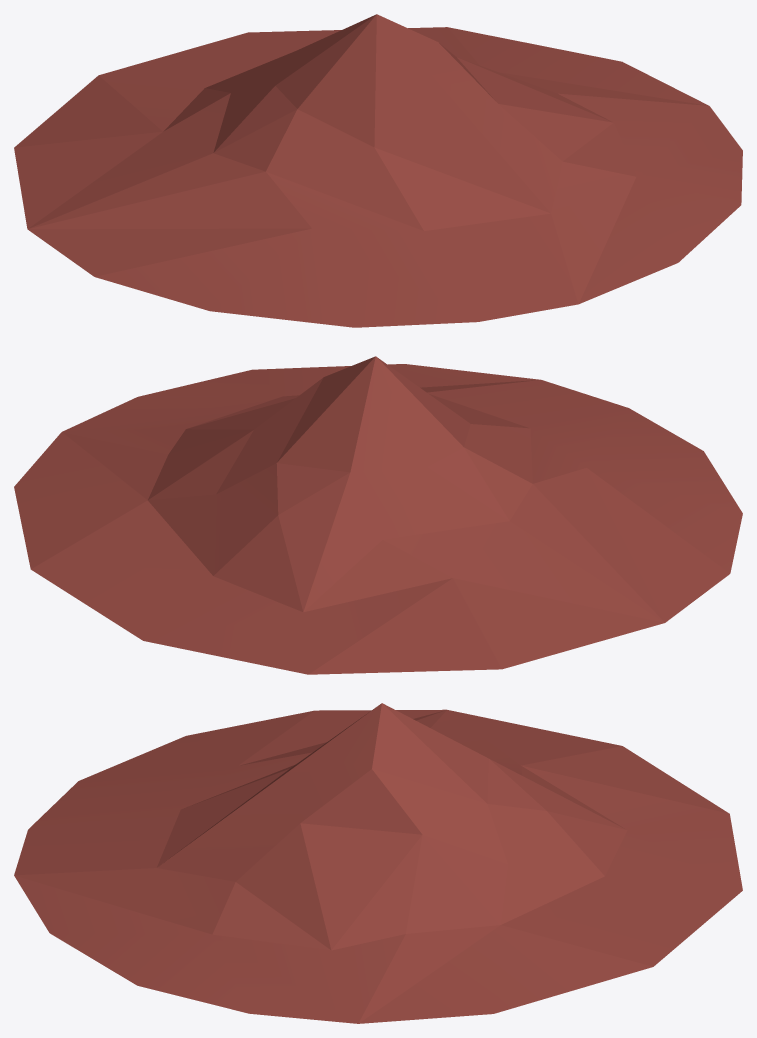
Rendered from entity113738.glb.
3 renders of one model, top to bottom at view 1: azimuth 30°, elevation 25°; view 2: azimuth 150°, elevation 25°; view 3: azimuth 270°, elevation 25°, orthographic.
Parts seen in each view (by area): view 1: node_SM_Env_Ground_Slope_02 (6); view 2: node_SM_Env_Ground_Slope_02 (6); view 3: node_SM_Env_Ground_Slope_02 (6).
Part boxes in pixels (x1=…): node_SM_Env_Ground_Slope_02 (6): x1=14, y1=14, x2=742, y2=327; node_SM_Env_Ground_Slope_02 (6): x1=14, y1=356, x2=742, y2=674; node_SM_Env_Ground_Slope_02 (6): x1=14, y1=703, x2=742, y2=1023.
Bounding box in the file's own units: 71.08 × 17.19 × 69.71.
1 material, 1 textured.
